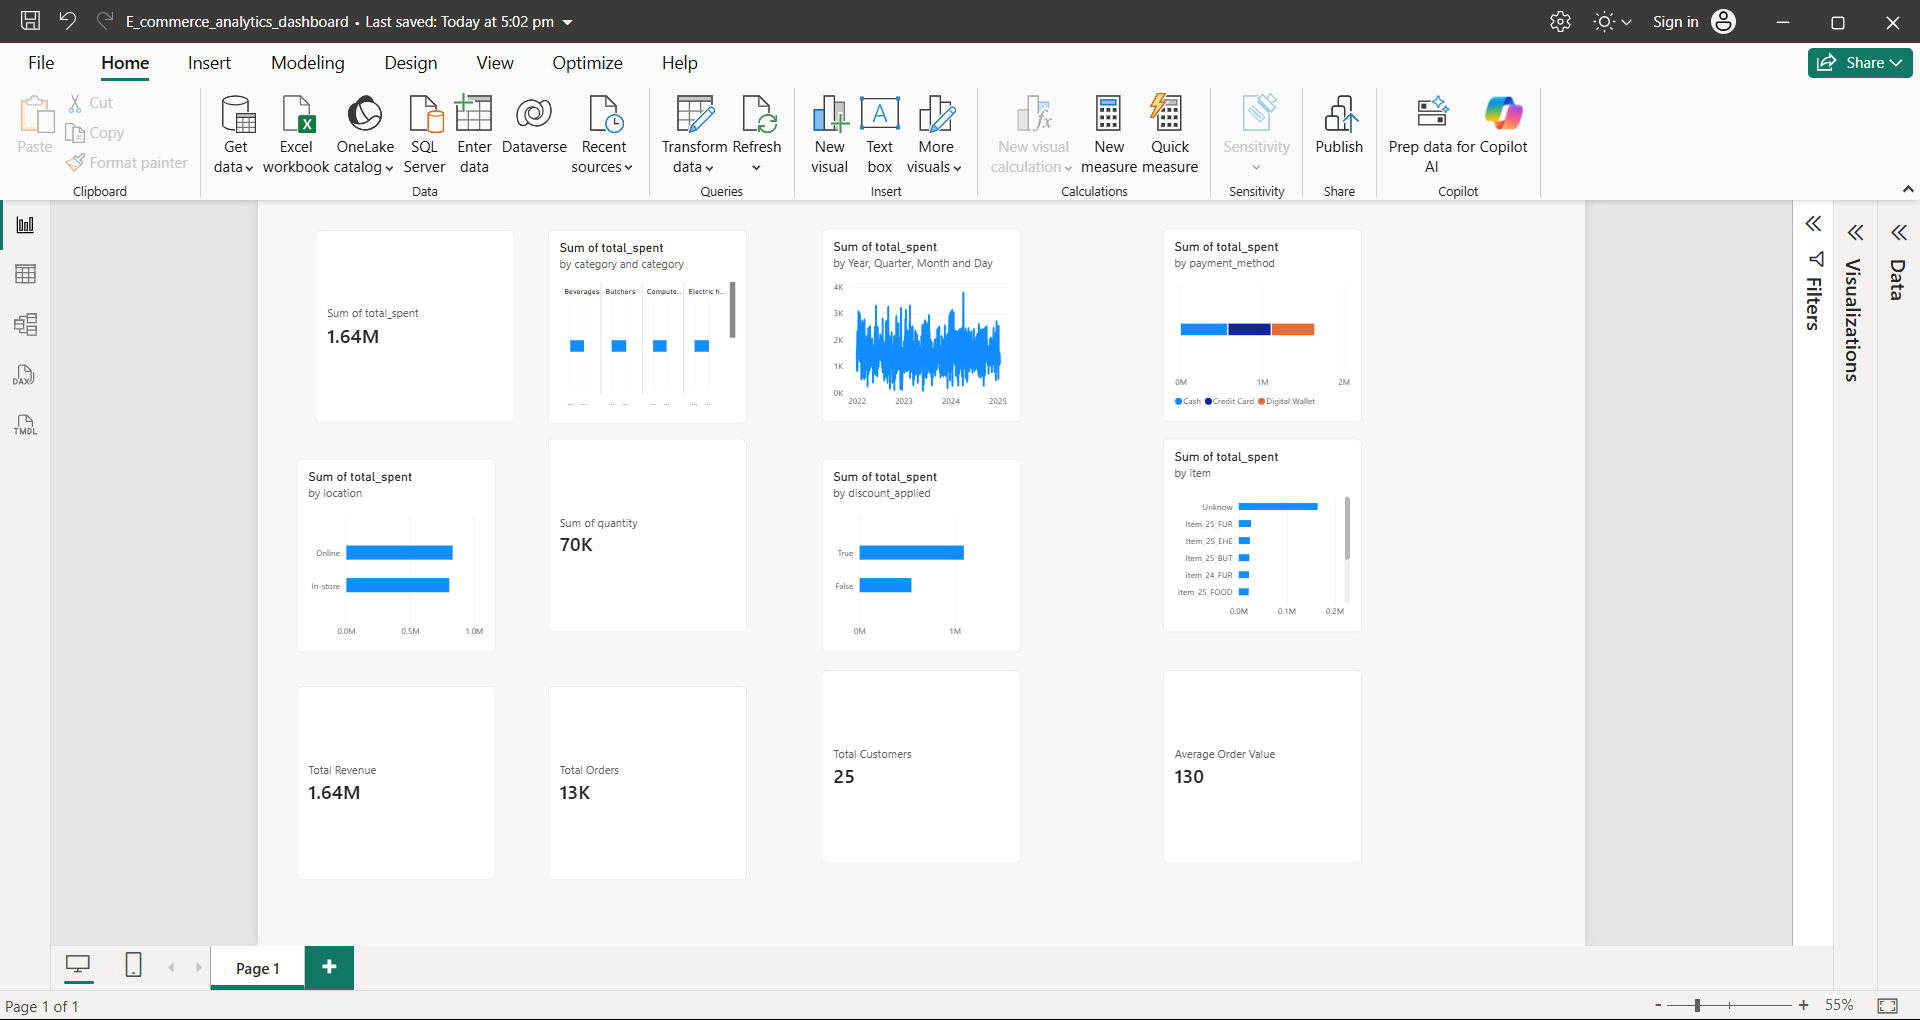

This screenshot's page, from the dashboard's own definition file:
{"tool":"powerbi","page":{"name":"Page 1","canvas":[1920,1080],"ordinal":0},"visuals":[{"type":"cardVisual","fields":{"Data":["Sum(cleaned_ecommerce.total_spent)"]},"box":[84,44,288.2,279.9],"z":0},{"type":"barChart","fields":{"Category":["cleaned_ecommerce.category"],"Rows":["cleaned_ecommerce.category"],"Y":["Sum(cleaned_ecommerce.total_spent)"]},"box":[420,44,288,280],"z":1},{"type":"lineChart","fields":{"Category":["cleaned_ecommerce.transaction_date.Variation.Date Hierarchy.Year","cleaned_ecommerce.transaction_date.Variation.Date Hierarchy.Quarter","cleaned_ecommerce.transaction_date.Variation.Date Hierarchy.Month","cleaned_ecommerce.transaction_date.Variation.Date Hierarchy.Day"],"Y":["Sum(cleaned_ecommerce.total_spent)"]},"box":[816.2,41.6,288,280],"z":2},{"type":"barChart","fields":{"Series":["cleaned_ecommerce.payment_method"],"Y":["Sum(cleaned_ecommerce.total_spent)"]},"box":[1310,42,288,280],"z":3},{"type":"barChart","fields":{"Category":["cleaned_ecommerce.location"],"Y":["Sum(cleaned_ecommerce.total_spent)"]},"box":[56,374,288,280],"z":4},{"type":"cardVisual","fields":{"Data":["Sum(cleaned_ecommerce.quantity)"]},"box":[420,346,288,280],"z":5},{"type":"barChart","fields":{"Category":["cleaned_ecommerce.discount_applied"],"Y":["Sum(cleaned_ecommerce.total_spent)"]},"box":[816,374,288,280],"z":6},{"type":"barChart","fields":{"Category":["cleaned_ecommerce.item"],"Y":["Sum(cleaned_ecommerce.total_spent)"]},"box":[1310,346,288,280],"z":7},{"type":"cardVisual","fields":{"Data":["cleaned_ecommerce.Total Revenue"]},"box":[56,704,288,280],"z":8},{"type":"cardVisual","fields":{"Data":["cleaned_ecommerce.Total Orders"]},"box":[420,704,288,280],"z":9},{"type":"cardVisual","fields":{"Data":["cleaned_ecommerce.Total Customers"]},"box":[816,680,288,280],"z":10},{"type":"cardVisual","fields":{"Data":["cleaned_ecommerce.Average Order Value"]},"box":[1310,680,288,280],"z":11}]}

Visuals, with their boxes on the page's 1920x1080 design canvas (x1, y1, x2, y2). These are canvas units, not pixel positions in the 1920x1020 screenshot, which may show the page scaled, cropped or inside an application window:
cardVisual - Sum(cleaned_ecommerce.total_spent): (84, 44, 372, 324)
barChart - cleaned_ecommerce.category x cleaned_ecommerce.category: (420, 44, 708, 324)
lineChart - cleaned_ecommerce.transaction_date.Variation.Date Hierarchy.Year x cleaned_ecommerce.transaction_date.Variation.Date Hierarchy.Quarter: (816, 42, 1104, 322)
barChart - cleaned_ecommerce.payment_method x Sum(cleaned_ecommerce.total_spent): (1310, 42, 1598, 322)
barChart - cleaned_ecommerce.location x Sum(cleaned_ecommerce.total_spent): (56, 374, 344, 654)
cardVisual - Sum(cleaned_ecommerce.quantity): (420, 346, 708, 626)
barChart - cleaned_ecommerce.discount_applied x Sum(cleaned_ecommerce.total_spent): (816, 374, 1104, 654)
barChart - cleaned_ecommerce.item x Sum(cleaned_ecommerce.total_spent): (1310, 346, 1598, 626)
cardVisual - cleaned_ecommerce.Total Revenue: (56, 704, 344, 984)
cardVisual - cleaned_ecommerce.Total Orders: (420, 704, 708, 984)
cardVisual - cleaned_ecommerce.Total Customers: (816, 680, 1104, 960)
cardVisual - cleaned_ecommerce.Average Order Value: (1310, 680, 1598, 960)
